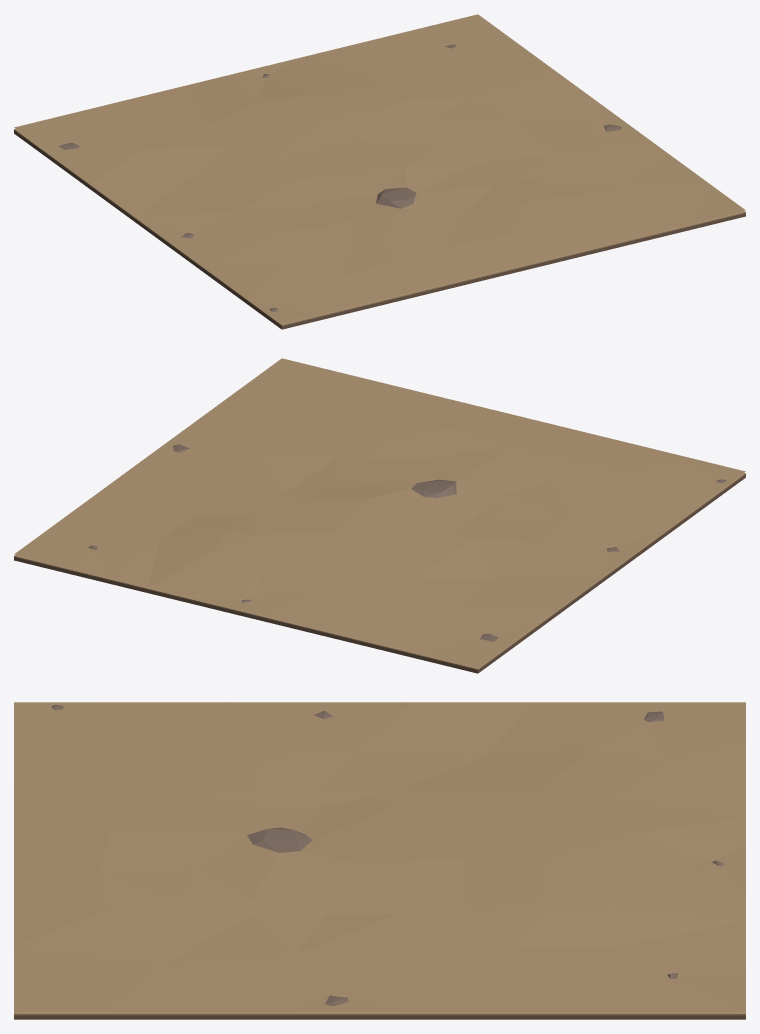
The model's file is gravel-shoulder-tile-3eb36f.glb.
3 views of the same model, one above another, from view 1: azimuth 30°, elevation 25°; view 2: azimuth 150°, elevation 25°; view 3: azimuth 270°, elevation 25° (orthographic). The views are drawn at different scales.
Visible parts, largest first — view 1: gravel-shoulder; view 2: gravel-shoulder; view 3: gravel-shoulder.
Boxes of the visible parts, bbox=[...] form: gravel-shoulder: bbox=[14, 14, 745, 329]; gravel-shoulder: bbox=[14, 358, 745, 673]; gravel-shoulder: bbox=[14, 702, 745, 1019].
Bounding box in the file's own units: 4 × 0.0932 × 4.
